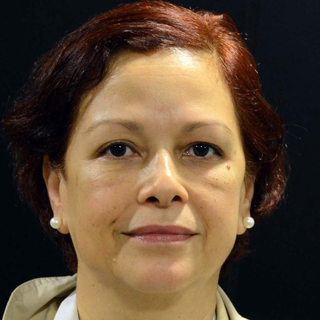eye: (90, 133, 146, 166), (175, 134, 225, 165)
